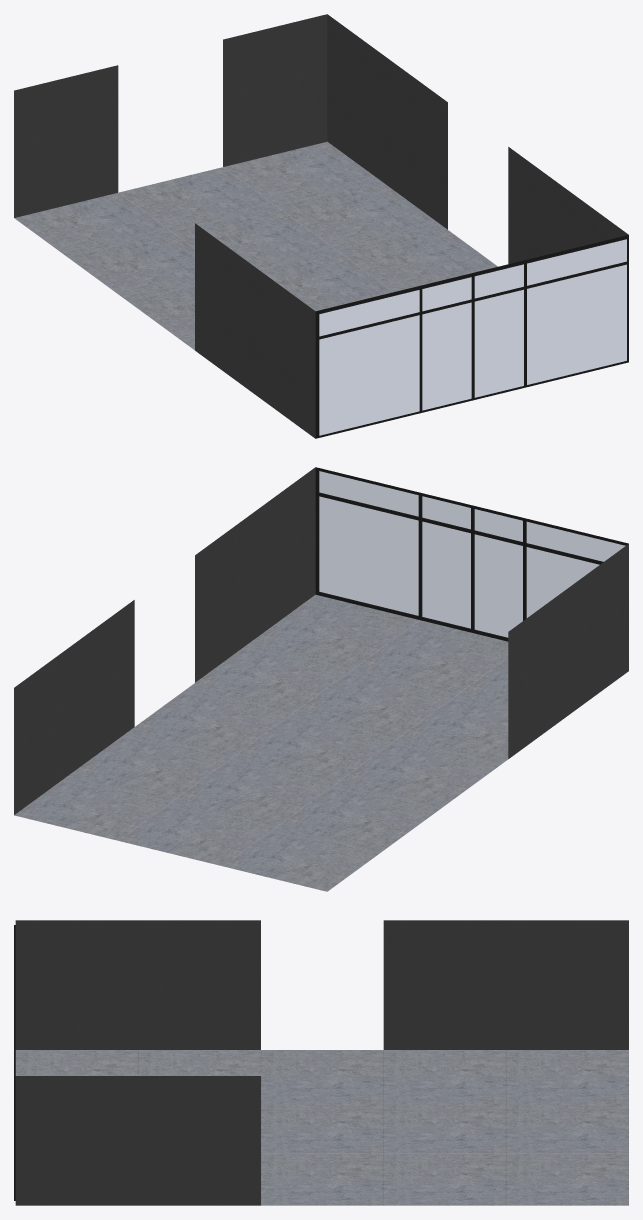
The model's file is main-room.glb.
3 renders of one model, top to bottom at view 1: azimuth 30°, elevation 25°; view 2: azimuth 150°, elevation 25°; view 3: azimuth 270°, elevation 25°, orthographic.
Parts seen in each view (by area): view 1: Lobby_Walls, Lobby_Floor; view 2: Lobby_Floor, Lobby_Walls; view 3: Lobby_Walls, Lobby_Floor.
Boxes of the visible parts, box(x1,y1,x2,y2) form: Lobby_Walls: box(14, 14, 628, 438); Lobby_Floor: box(14, 141, 497, 350); Lobby_Floor: box(14, 594, 508, 891); Lobby_Walls: box(14, 467, 628, 814); Lobby_Walls: box(14, 920, 628, 1205); Lobby_Floor: box(15, 1050, 628, 1205).
Size of the model in its own units: 9 by 3.5 by 15.04.
1 material, 1 textured.
